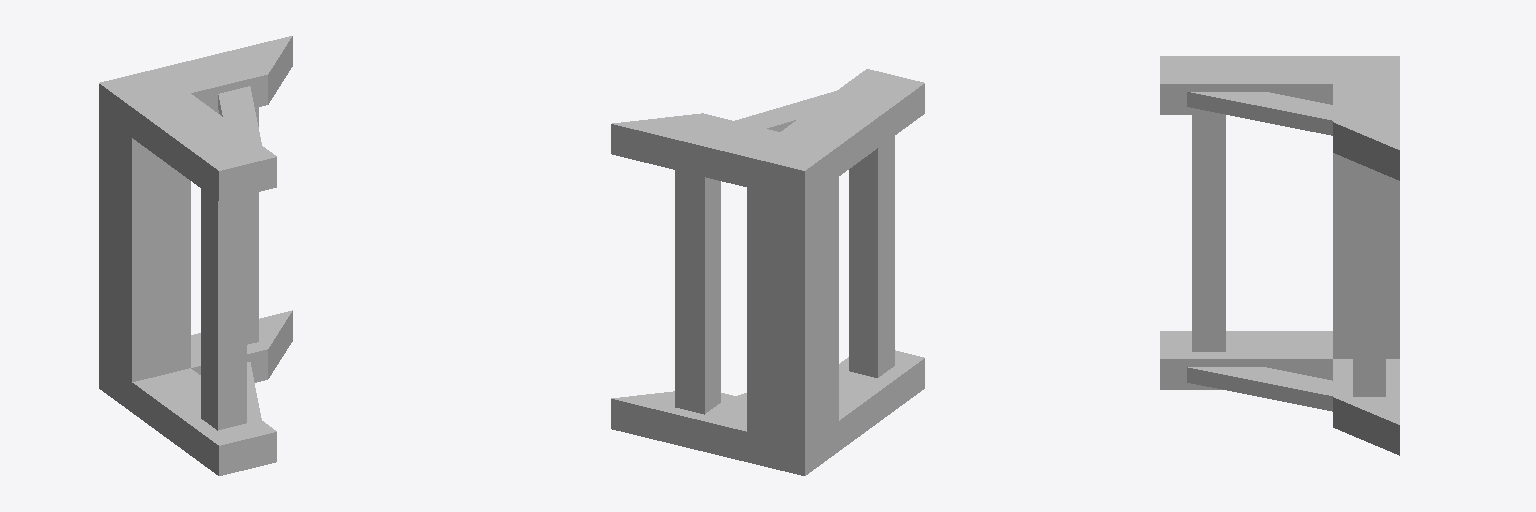
The model's file is rack.obj.
3 renders of one model, left to right at view 1: azimuth 30°, elevation 25°; view 2: azimuth 150°, elevation 25°; view 3: azimuth 270°, elevation 25°, orthographic.
Visible parts, largest first — view 1: Rack, Bar_top, Bar_bottom; view 2: Rack, Bar_bottom, Bar_top; view 3: Rack, Bar_top, Bar_bottom.
Part boxes in pixels (bbox=[...]): Rack: bbox=[99, 36, 292, 475]; Bar_top: bbox=[201, 189, 246, 430]; Bar_bottom: bbox=[247, 107, 258, 344]; Rack: bbox=[611, 69, 924, 475]; Bar_bottom: bbox=[675, 170, 720, 414]; Bar_top: bbox=[849, 136, 894, 377]; Rack: bbox=[1160, 56, 1399, 455]; Bar_top: bbox=[1192, 115, 1225, 351]; Bar_bottom: bbox=[1353, 161, 1385, 396].
Bounding box in the file's own units: 0.6657 × 1 × 0.715.